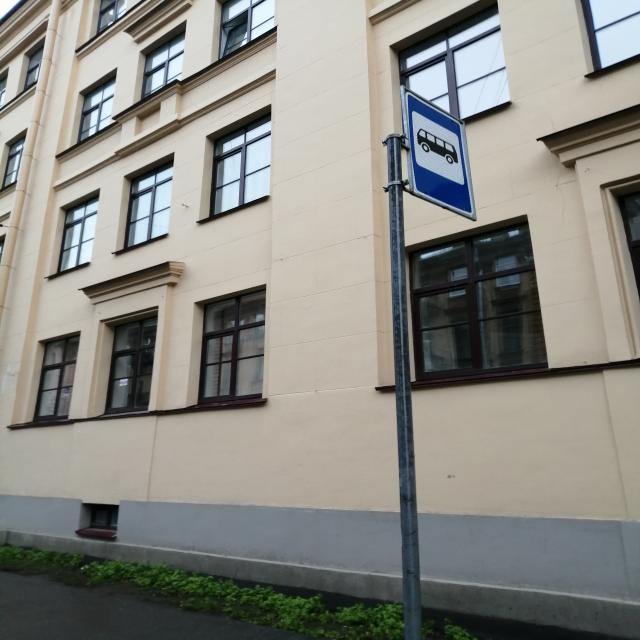road sign: (406, 92, 475, 214)
